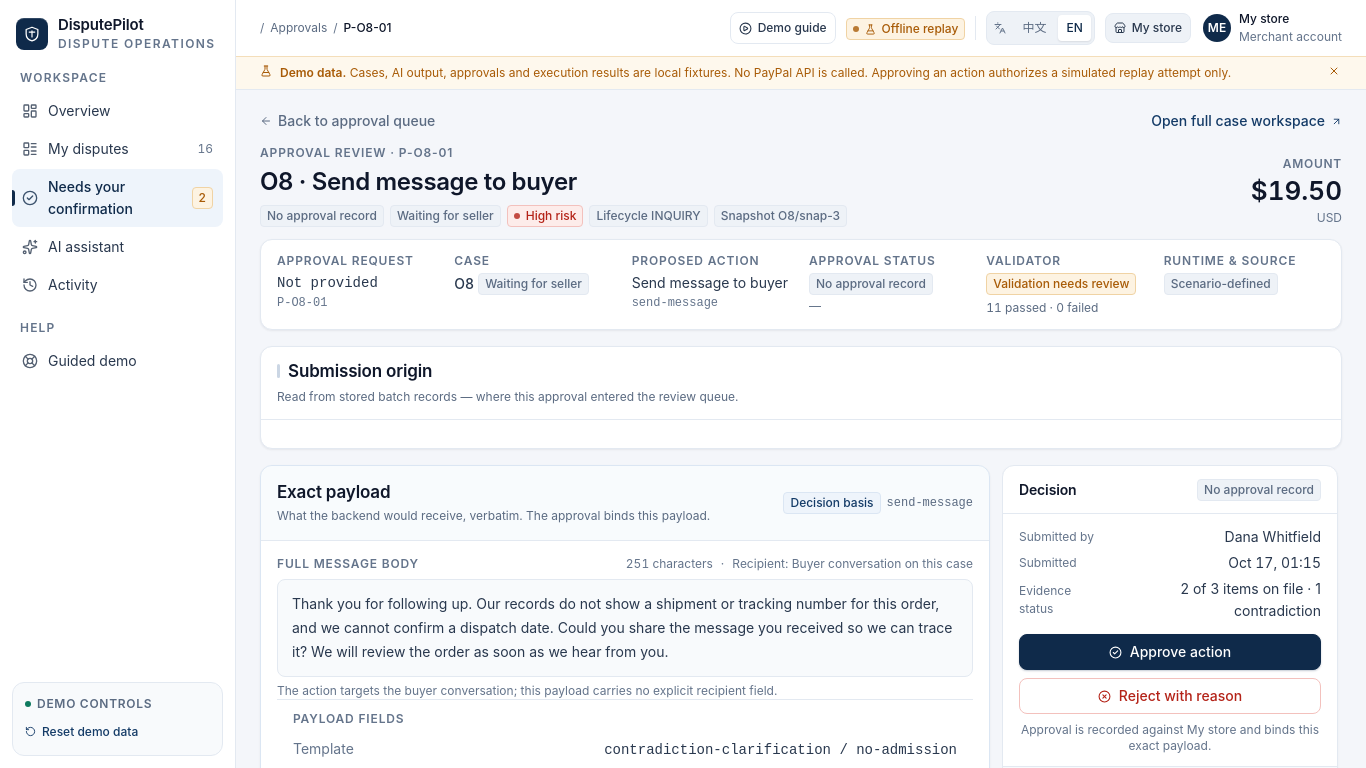
Test: DisputePilot workspace › records a manager approval without executing it
The image size is (1366, 768).
expect the heading "O8 · Send message to buyer" is shown: met, box [260, 167, 577, 196]
Click the button "Approve action" at (1170, 652), box [1019, 634, 1321, 670]
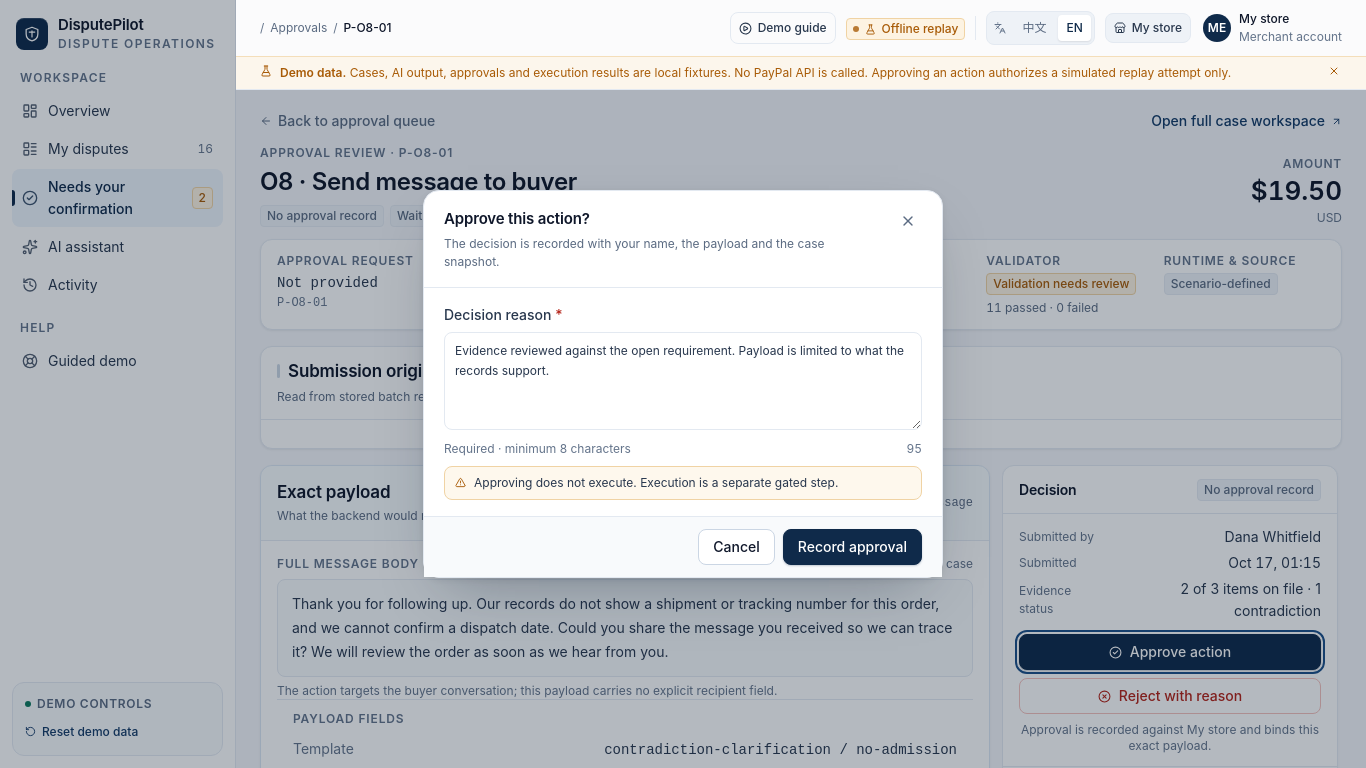
expect the dialog "Approve this action" is shown: met, box [423, 190, 943, 578]
Click the button "Record approval" at (852, 547), box [783, 529, 922, 565]
(page scrolled)
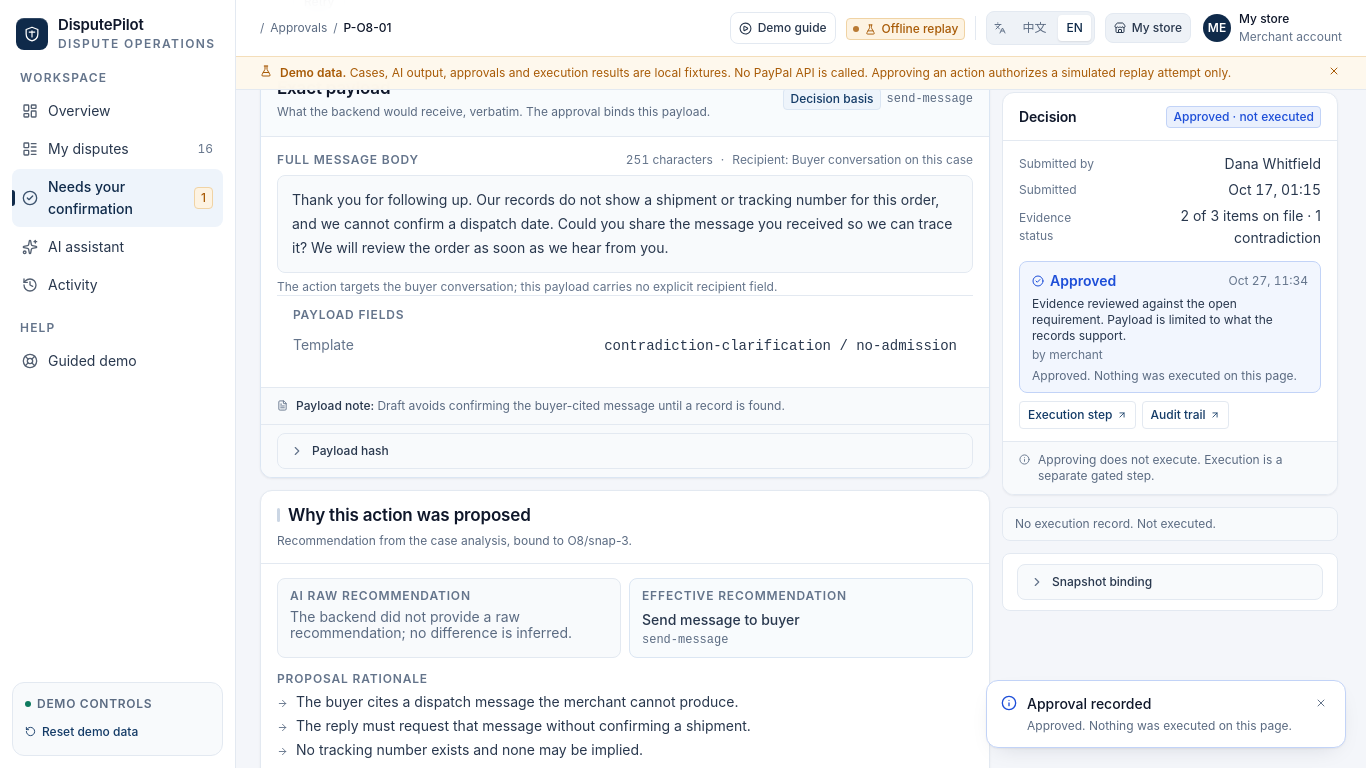
expect the text "Approved. Nothing was executed on this page." below "by merchant" is shown: met, box [1032, 368, 1297, 383]
